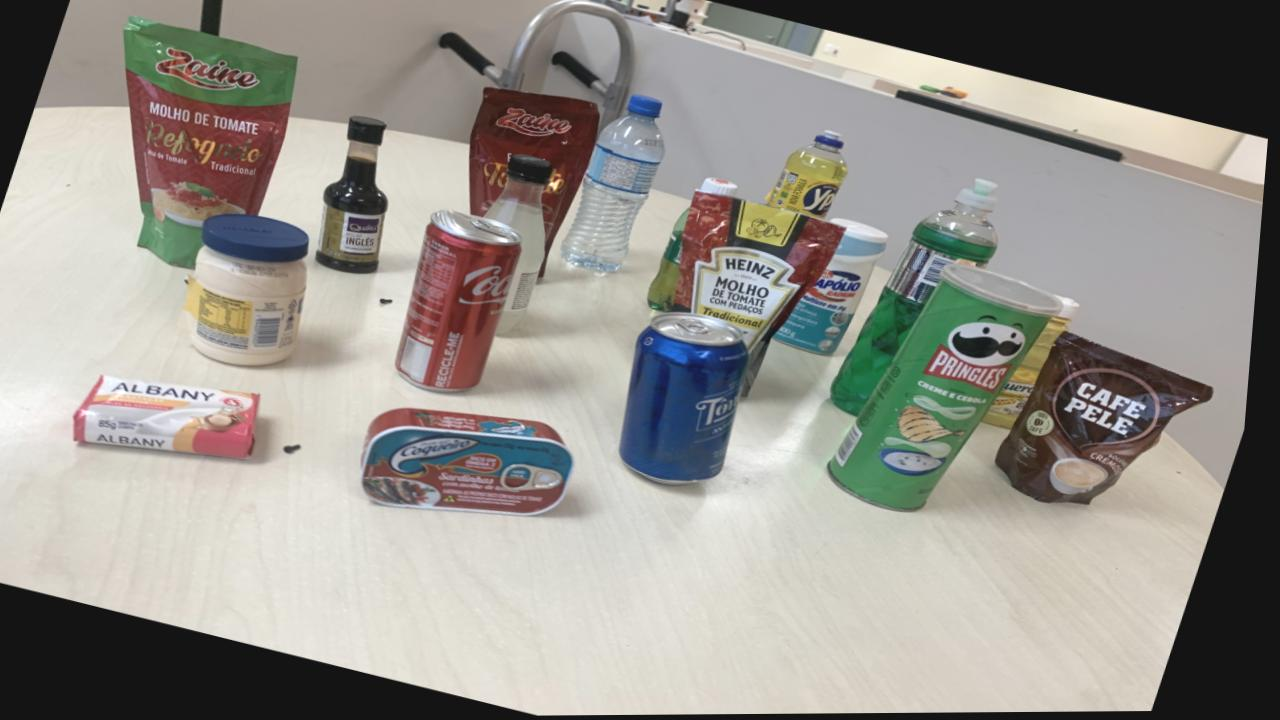Cleaner-Cleanup_Items: (779, 219, 892, 357)
Coffee-Pantry_Items: (1003, 335, 1220, 506)
Coke-Drinks: (401, 211, 526, 393)
Detergent-Cleanup_Items: (837, 181, 1003, 417), (770, 132, 851, 220)
English_Sauce-Pantry_Items: (319, 117, 392, 275)
Guarana-Drinks: (651, 211, 693, 313), (702, 178, 742, 199)
Mayonnaise-Pantry_Items: (189, 214, 314, 366)
Mustard-Pantry_Items: (990, 299, 1084, 430)
Pringles-Snacks: (836, 264, 1067, 512)
Soap-Cleanup_Items: (80, 376, 266, 459)
Soda-Drinks: (489, 155, 556, 334)
Tomato_Sauce-Pantry_Items: (123, 17, 299, 268), (677, 192, 848, 397), (471, 88, 602, 250)
Tonic-Drinks: (626, 313, 755, 485)
Tuna_Can-Pantry_Items: (369, 409, 582, 517)
Water_Bottle-Drinks: (564, 96, 668, 274)
